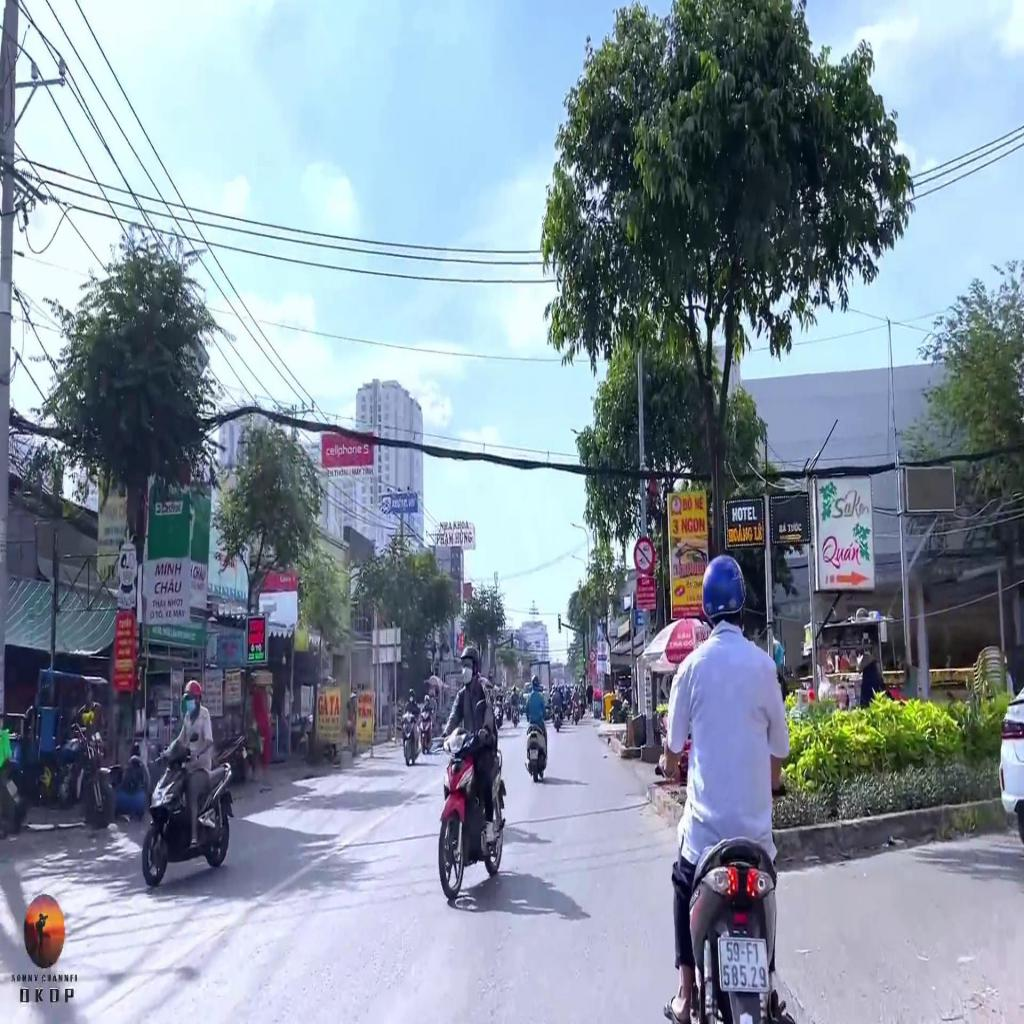cam_cac_loai_xe_3_banh: (634, 536, 657, 574), (590, 649, 596, 663)
